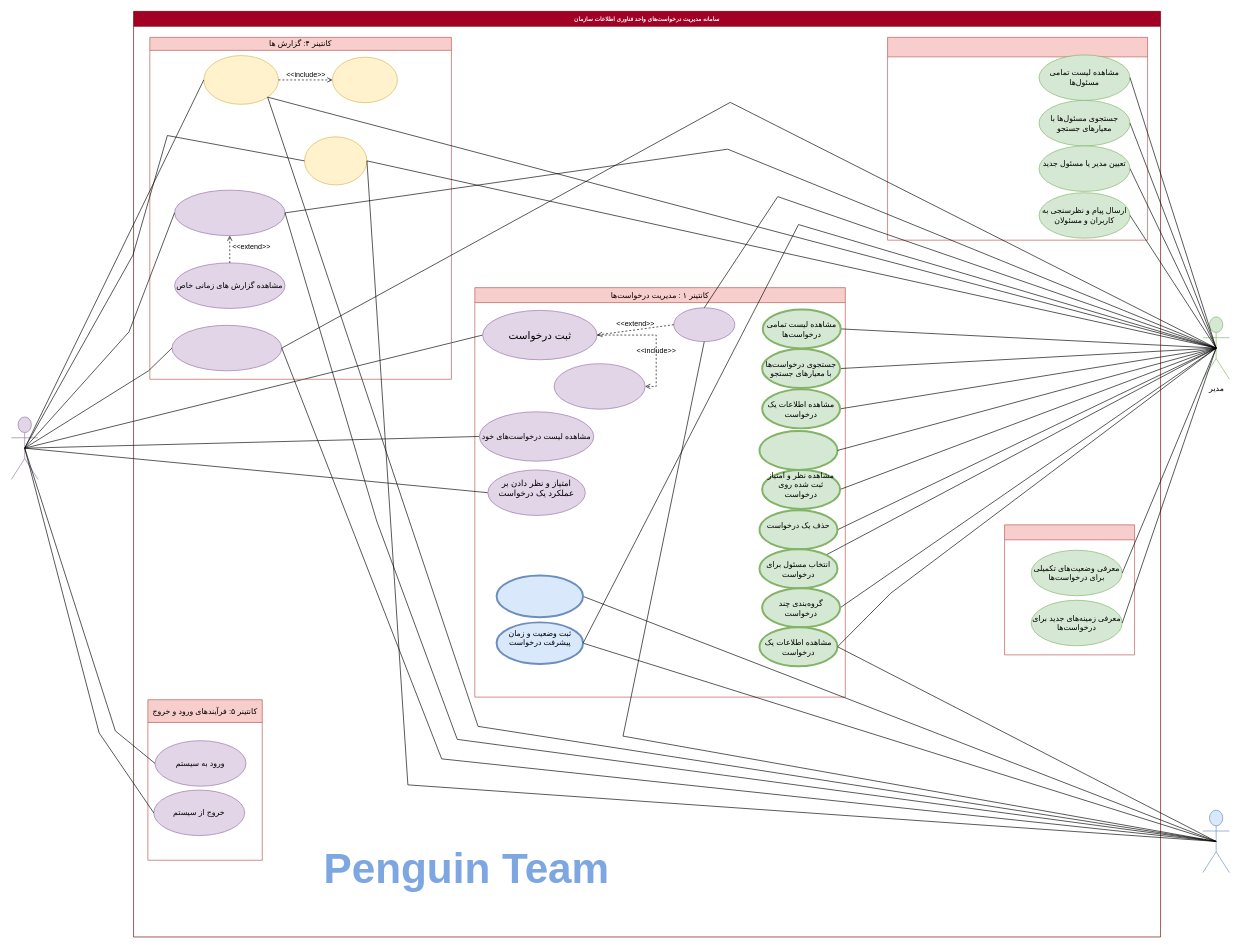
Some shapes in this 1241 by 948 pixel diagram are drawn without their labels. Each missing label, with the box of its shape:
ارسال پیام به مسئول زیر یک درخواست: (673, 307, 735, 342)
اطلاع رسانی تغییرات به کاربران/مدیران/مسئولان مرتبط: (304, 136, 367, 185)
تعیین زمینه یک درخواست: (553, 363, 645, 409)
تغییر اطلاعات درخواست: (758, 430, 838, 471)
ذخیره گزارش تجمیعی زمانی یا کیفی برای گروهی از درخواست‌ها: (332, 57, 397, 103)
ذخیره گزارش زمانی یک درخواست خاص: (203, 55, 279, 104)
قبول یا رد درخواست‌های محول‌شده: (495, 574, 584, 618)
مسئول: (1202, 810, 1229, 873)
مشاهده گزارش‌های تجمیعی زمانی: (174, 189, 285, 236)
مشاهده گزارش‌های تجمیعی کیفی: (171, 325, 282, 371)
کاربر: (11, 416, 38, 479)
کانتینر ۲: مدیریت کاربران و مسئولان: (887, 37, 1148, 240)
کانتینر ۳: مدیریت زمینه‌ها و وضعیت‌ها: (1004, 524, 1135, 655)
